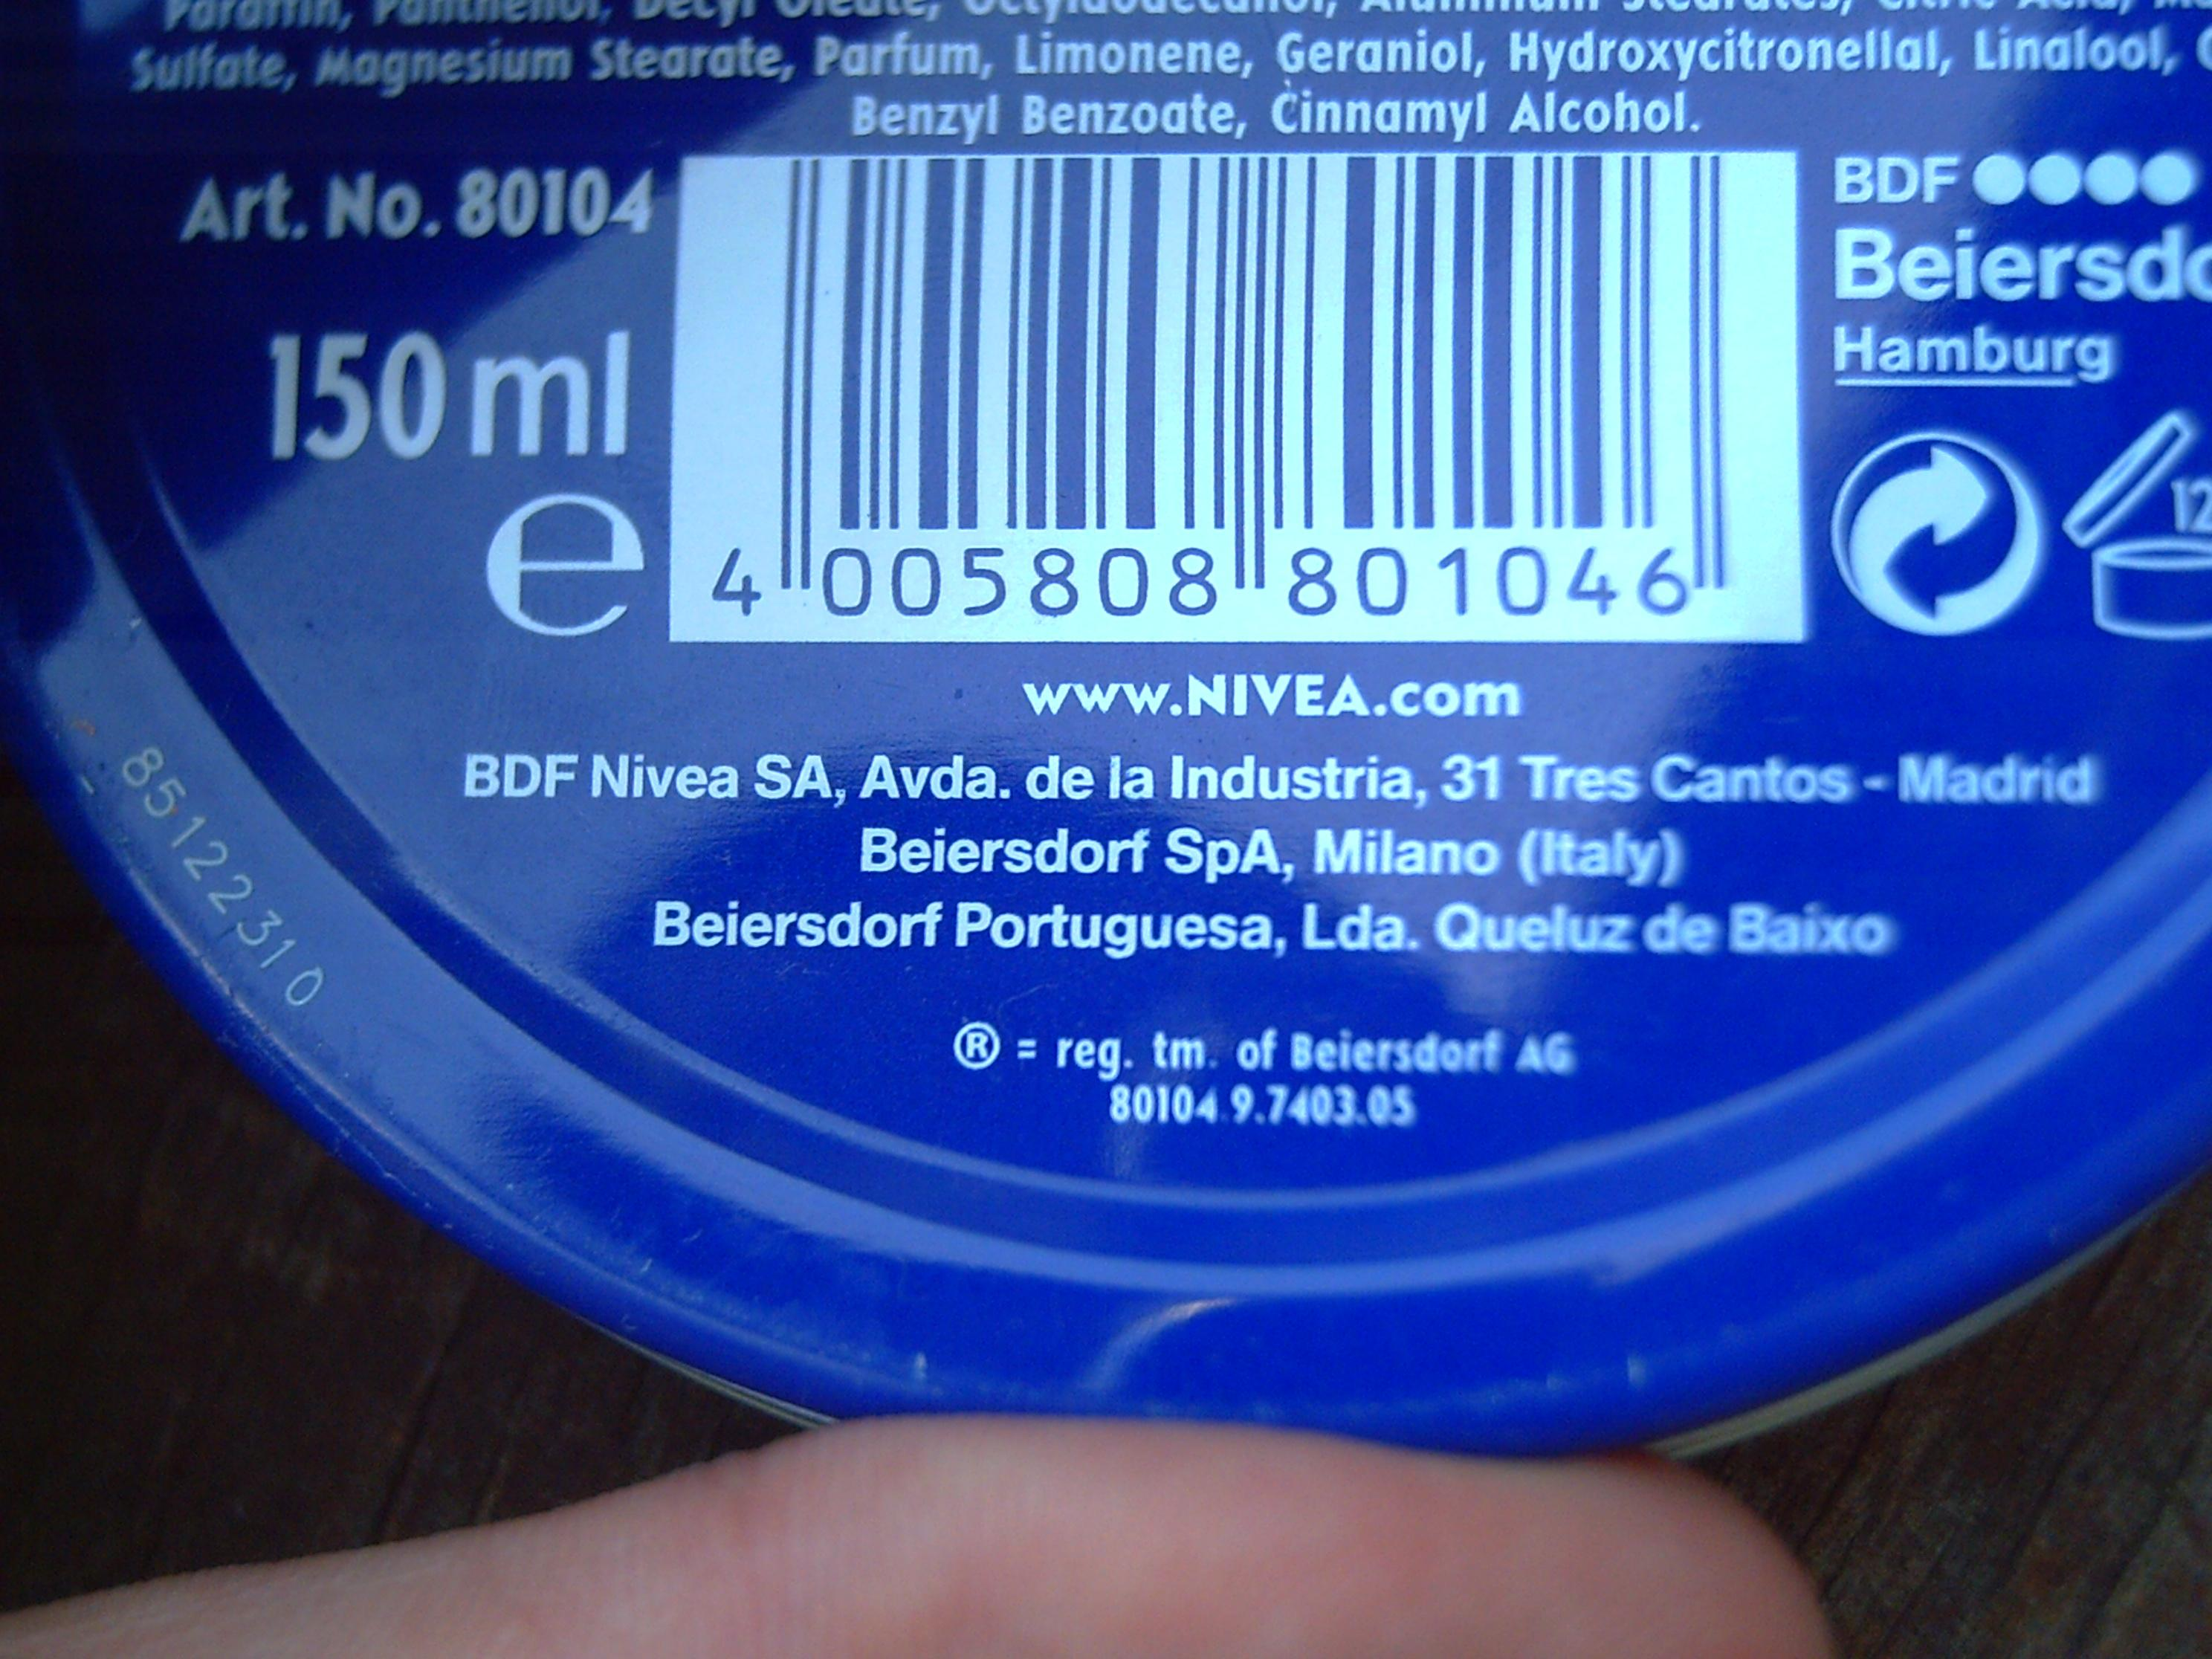barcode: (676, 157, 1797, 643)
